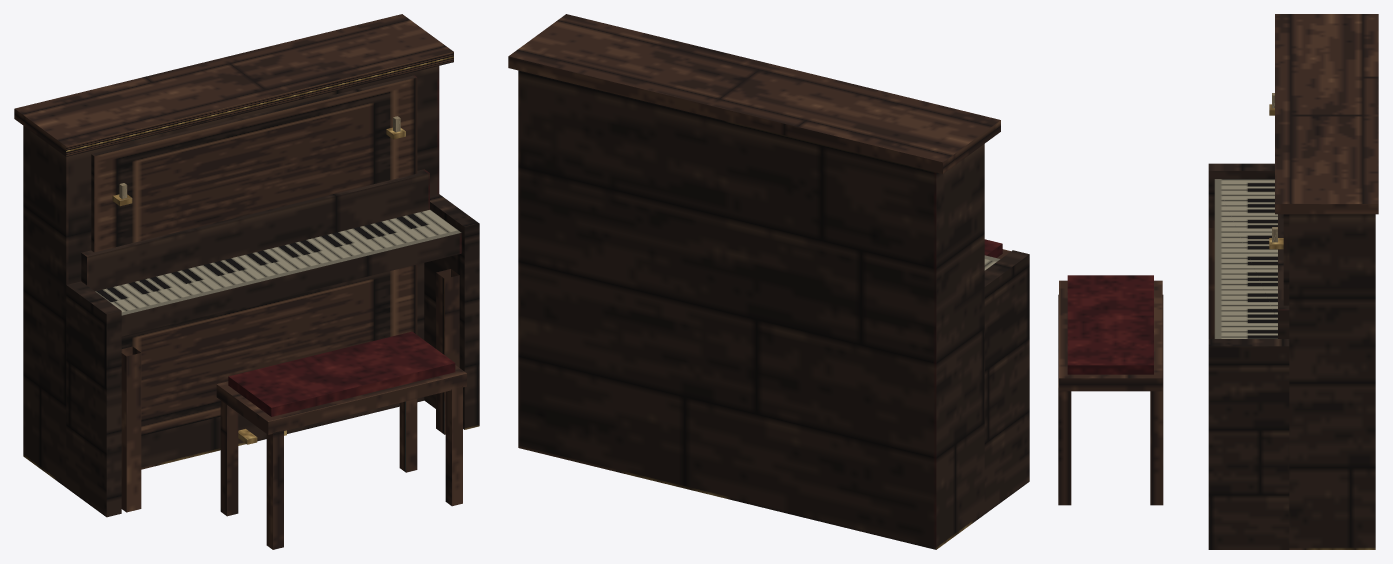
File: Furn_Piano_Upright.fbx
The picture shows the model from 3 angles, left to right: view 1: azimuth 30°, elevation 25°; view 2: azimuth 150°, elevation 25°; view 3: azimuth 270°, elevation 25°; orthographic projection. The views are drawn at different scales.
Parts seen in each view (by area): view 1: Furn_Piano_Upright, Furn_Piano_Upright_Bench; view 2: Furn_Piano_Upright; view 3: Furn_Piano_Upright, Furn_Piano_Upright_Bench.
Part boxes in pixels (x1,y1,x2,y2): Furn_Piano_Upright: [14, 14, 479, 517]; Furn_Piano_Upright_Bench: [216, 331, 466, 549]; Furn_Piano_Upright: [508, 14, 1029, 549]; Furn_Piano_Upright: [1208, 14, 1378, 549]; Furn_Piano_Upright_Bench: [1058, 275, 1163, 505].
Size of the model in its own units: 1.56 by 1.34 by 1.11.
